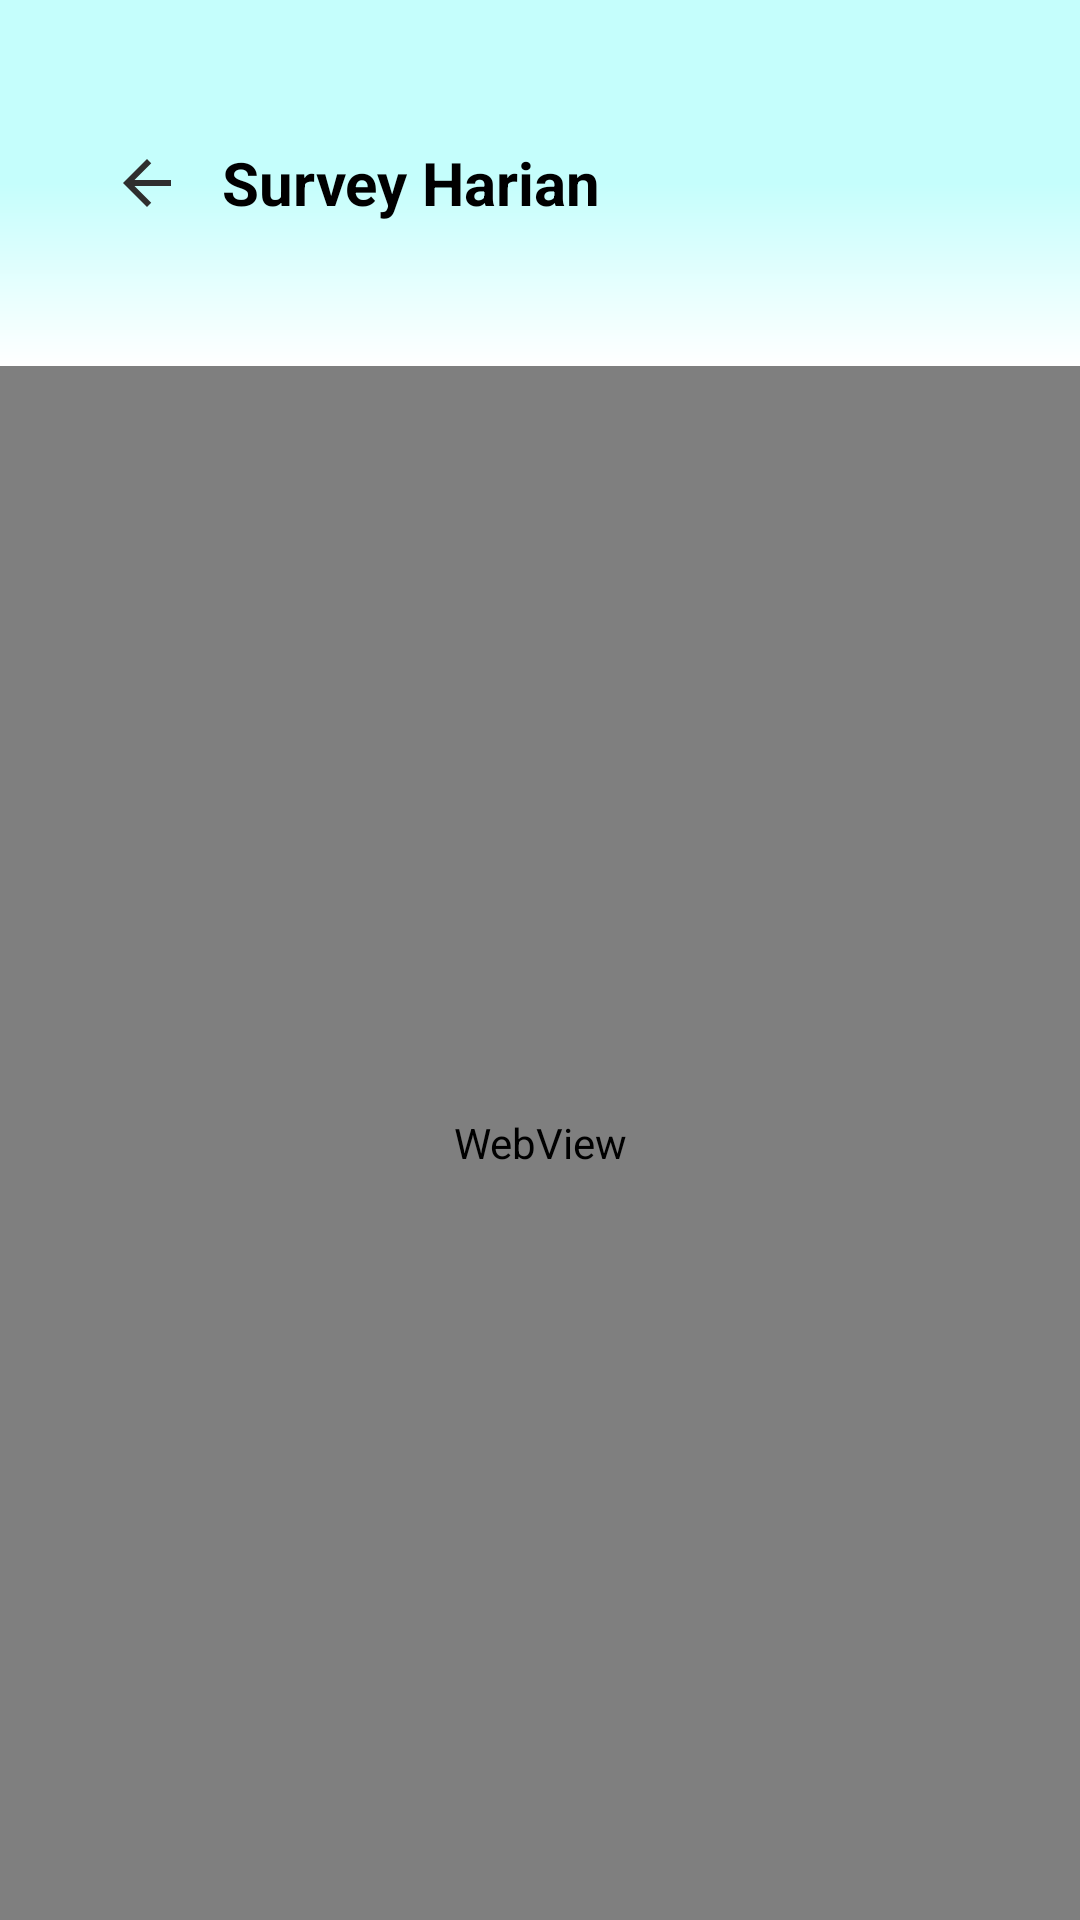

Icons on this 1080x1920 Android screen, each with the point to tap as point (x, y):
arrow back: point (147, 183)
